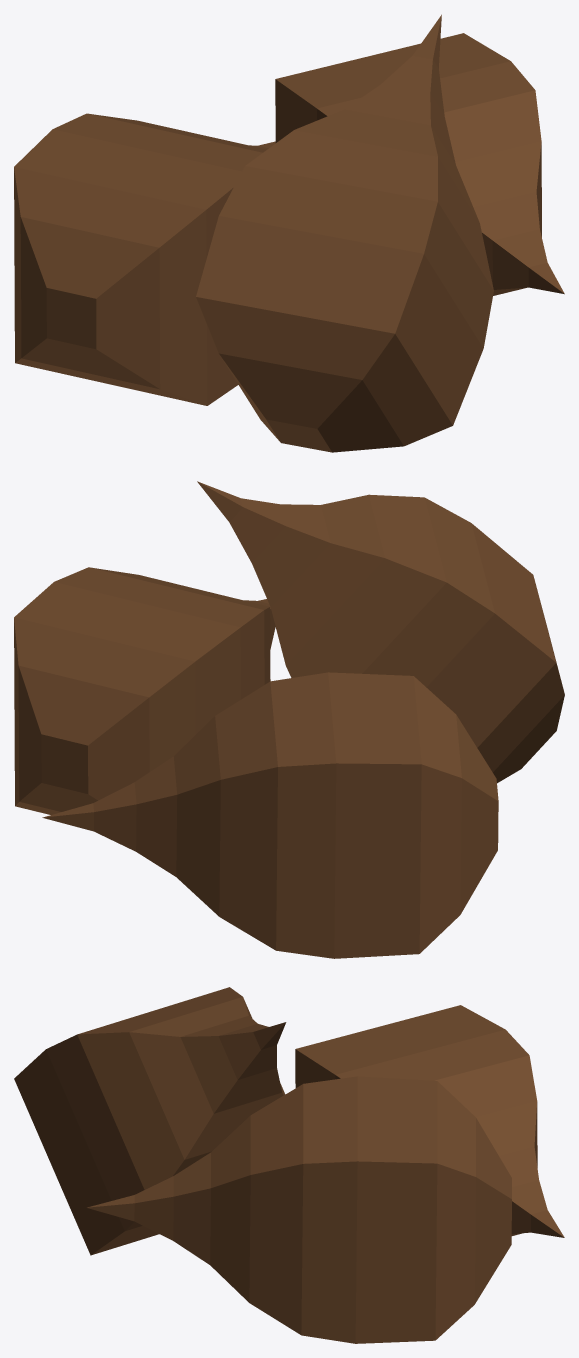
The model's file is beechNuts_bad.fbx.
3 views of the same model, one above another, from view 1: azimuth 30°, elevation 25°; view 2: azimuth 150°, elevation 25°; view 3: azimuth 270°, elevation 25° (orthographic). The views are drawn at different scales.
Visible parts, largest first — view 1: Cube.001, Cube.002, Cube; view 2: Cube.002, Cube.001, Cube; view 3: Cube, Cube.001, Cube.002.
Boxes of the visible parts, x1=… form: Cube.001: x1=196, y1=14, x2=493, y2=452; Cube.002: x1=14, y1=113, x2=275, y2=405; Cube: x1=275, y1=33, x2=564, y2=295; Cube.002: x1=42, y1=672, x2=498, y2=958; Cube.001: x1=197, y1=481, x2=564, y2=783; Cube: x1=14, y1=567, x2=275, y2=814; Cube: x1=87, y1=1076, x2=511, y2=1343; Cube.001: x1=14, y1=987, x2=286, y2=1255; Cube.002: x1=295, y1=1005, x2=564, y2=1237.
Size of the model in its own units: 226 by 159 by 259.
